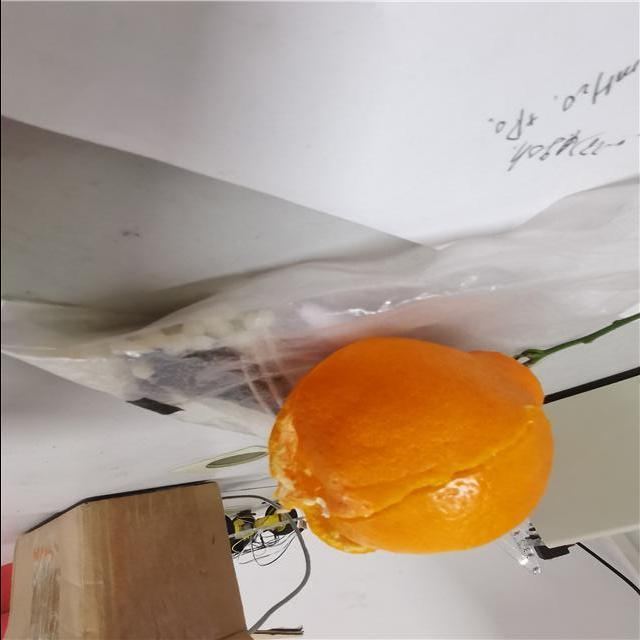orange peel: (266, 336, 555, 560)
